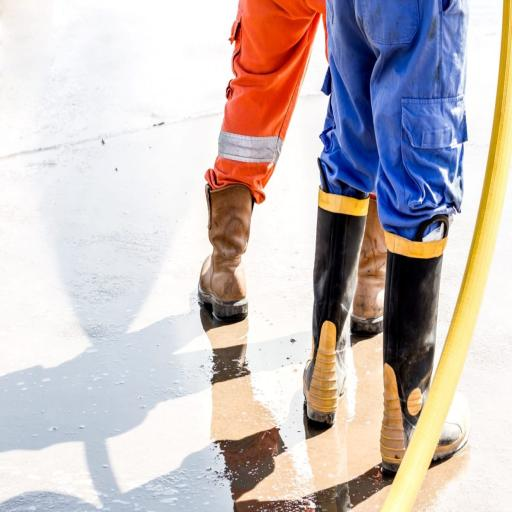safety_boots: (376, 224, 453, 472), (295, 185, 367, 441), (190, 185, 258, 311)
